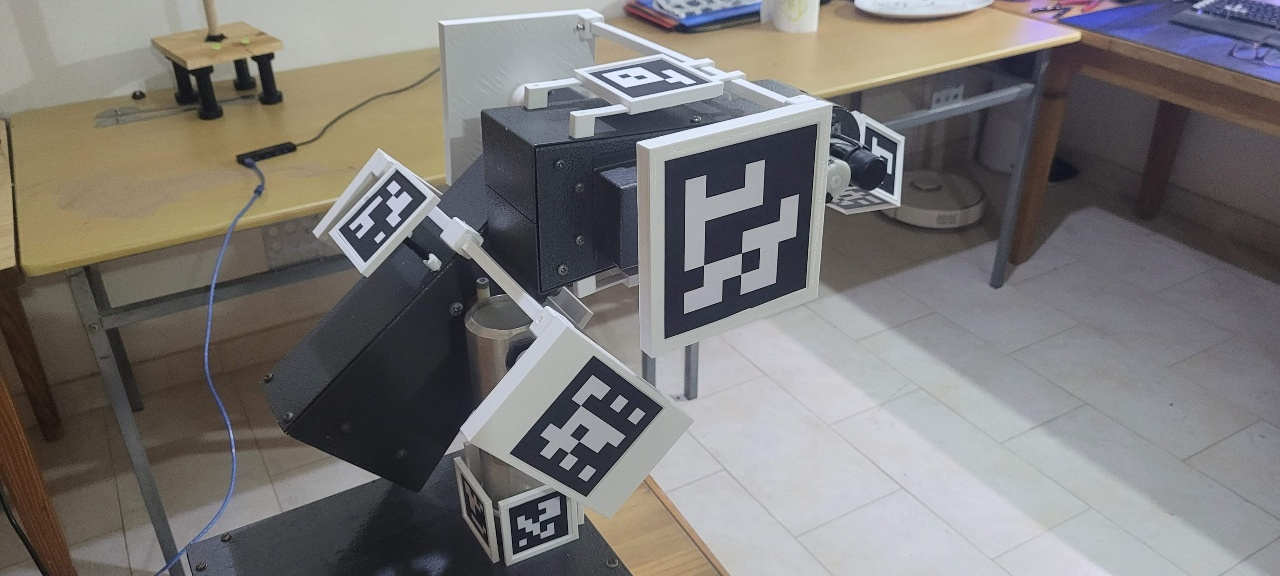Robot: (255, 5, 907, 567)
